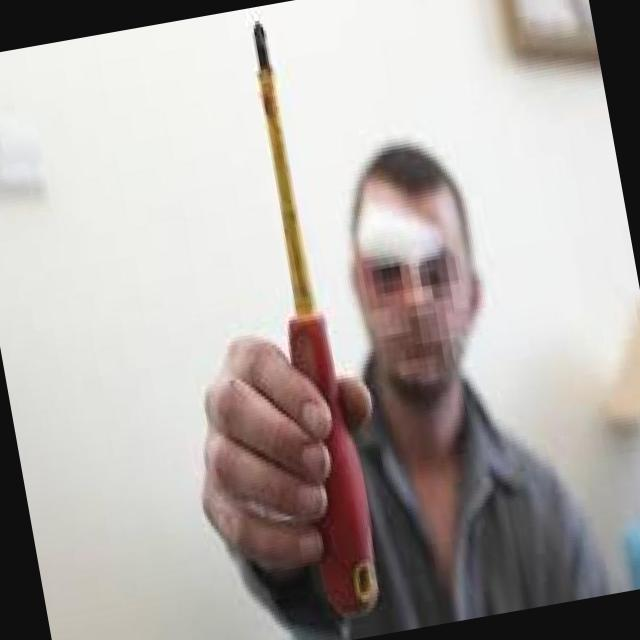screwdriver: (253, 20, 378, 616)
